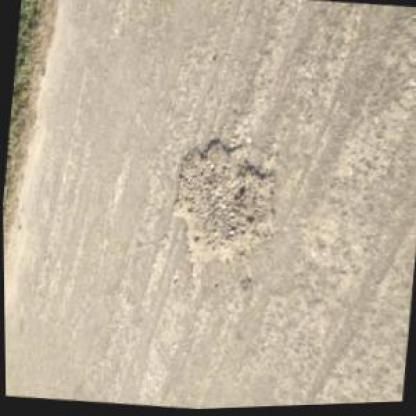pothole: (162, 129, 287, 290)
